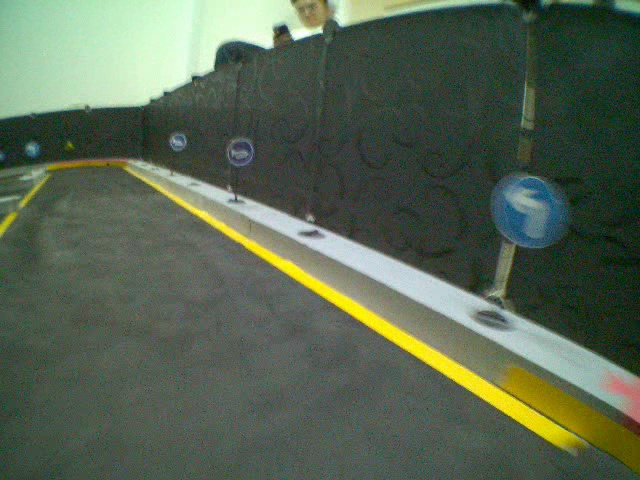horn: (226, 137, 257, 168), (169, 133, 188, 152)
turn: (496, 174, 567, 249)
